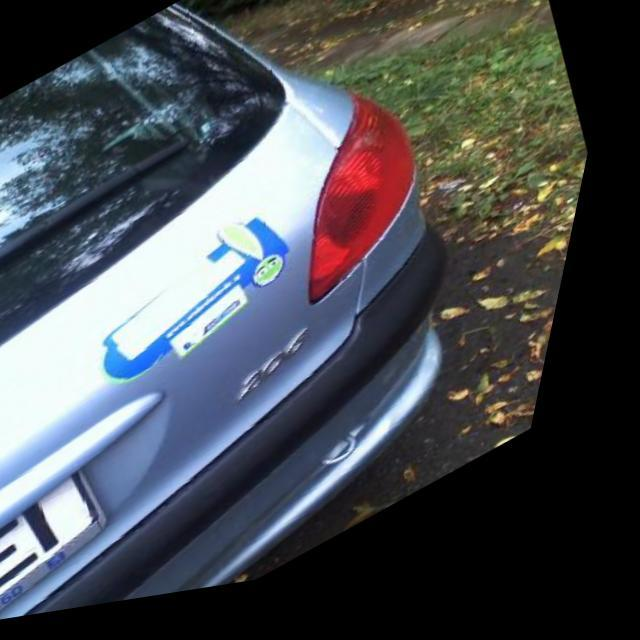license_plate: (0, 458, 159, 632)
